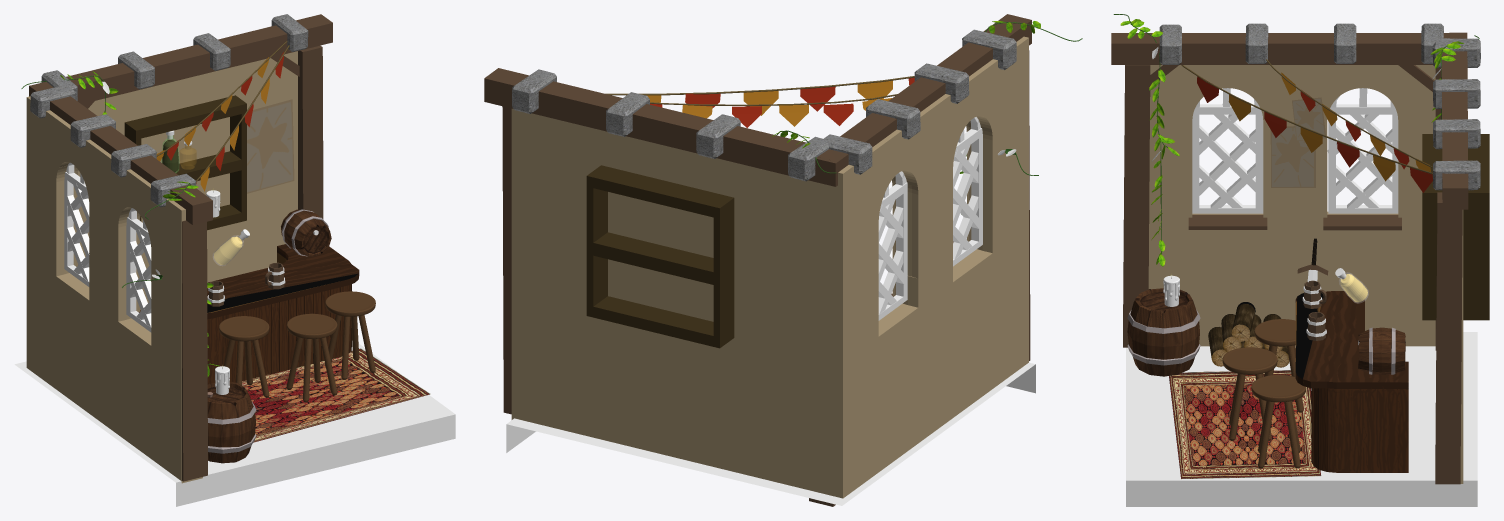
The model's file is Keogh_nighttime.glb.
3 views of the same model, side by side, from view 1: azimuth 30°, elevation 25°; view 2: azimuth 150°, elevation 25°; view 3: azimuth 270°, elevation 25° (orthographic). The views are drawn at different scales.
Visible parts, largest first — view 1: walls, floor, bar, roof bar, Plane, wall bar.002, shelf.004, wall bar.001, POSTER3, barrel, window bars, window bars.001 (+13 smaller); view 2: walls, shelf.004, roof bar, floor, window bars, window bars.001, wall bar.001, BRICK.007, BRICK.009, BRICK.008, BRICK.001, BRICK.002 (+4 smaller); view 3: walls, floor, bar, Plane, roof bar, wall bar.001, shelf.004, wall bar.002, window bars, barrel, window bars.001, stool.002 (+24 smaller).
Part boxes in pixels (box(x1,y1,x2,y2)): walls: box(26, 51, 297, 483); floor: box(14, 341, 455, 506); bar: box(207, 244, 359, 384); roof bar: box(29, 14, 332, 224); Plane: box(242, 348, 430, 442); wall bar.002: box(182, 220, 207, 481); shelf.004: box(124, 95, 246, 242); wall bar.001: box(298, 45, 323, 218); POSTER3: box(247, 99, 294, 193); barrel: box(207, 382, 256, 463); window bars: box(126, 208, 151, 332); window bars.001: box(64, 162, 89, 286); walls: box(511, 36, 1028, 498); shelf.004: box(586, 165, 734, 348); roof bar: box(484, 14, 1031, 186); floor: box(506, 362, 1035, 505); window bars: box(953, 117, 982, 266); window bars.001: box(878, 171, 907, 320); wall bar.001: box(502, 106, 511, 414); BRICK.007: box(696, 114, 740, 158); BRICK.009: box(512, 69, 556, 113); BRICK.008: box(606, 92, 649, 136); BRICK.001: box(914, 63, 969, 103); BRICK.002: box(866, 99, 920, 139); walls: box(1148, 65, 1463, 483); floor: box(1126, 332, 1477, 506); bar: box(1295, 291, 1408, 472); Plane: box(1169, 370, 1321, 479); roof bar: box(1111, 32, 1468, 209); wall bar.001: box(1435, 192, 1462, 484); shelf.004: box(1422, 134, 1489, 320); wall bar.002: box(1123, 65, 1150, 347); window bars: box(1192, 88, 1263, 213); barrel: box(1127, 288, 1200, 376); window bars.001: box(1327, 88, 1398, 213); stool.002: box(1251, 375, 1306, 468).
Bounding box in the file's own units: 10.25 × 9.06 × 9.19.
40 materials, 18 textured.
